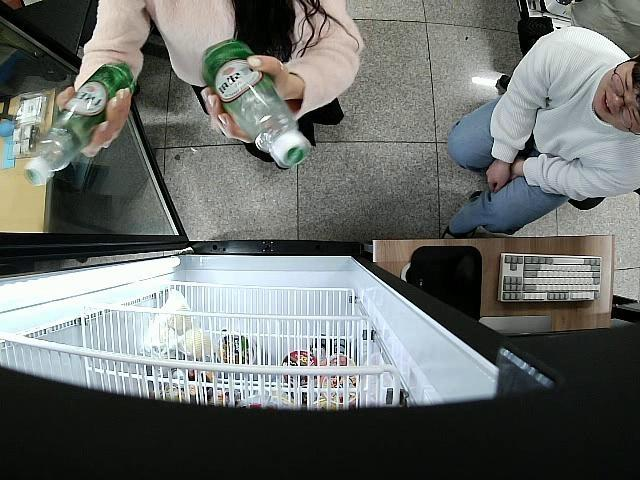18_trevi: (199, 38, 310, 172), (26, 61, 135, 185)
